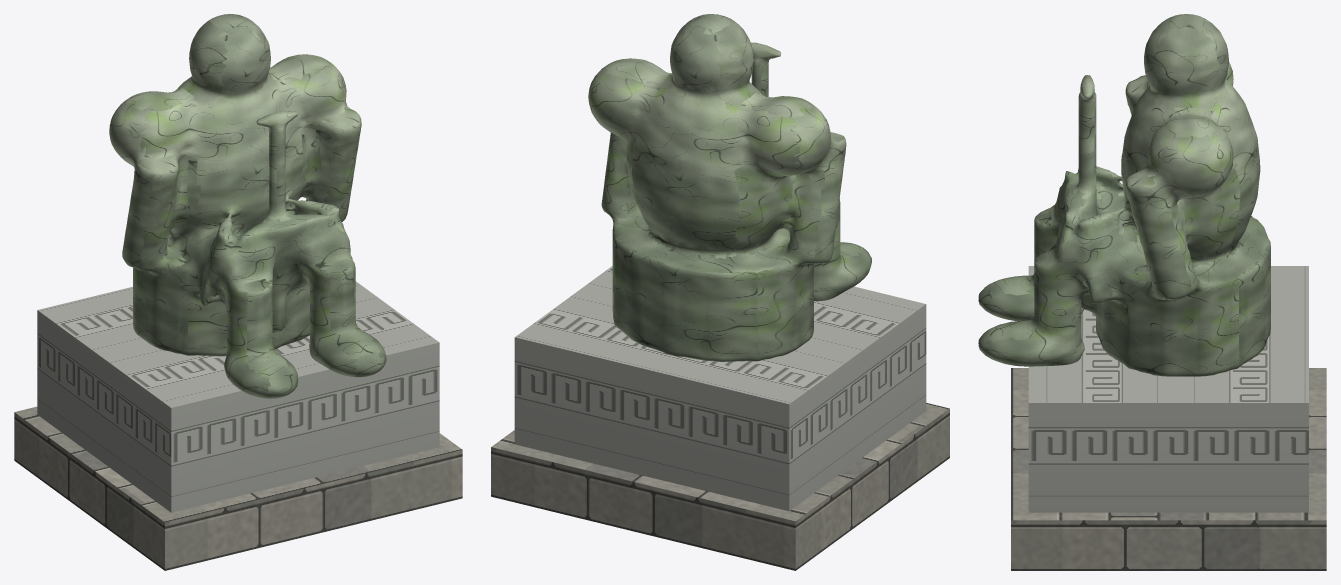
File: statue.glb
The picture shows the model from 3 angles, left to right: view 1: azimuth 30°, elevation 25°; view 2: azimuth 150°, elevation 25°; view 3: azimuth 270°, elevation 25°; orthographic projection. The views are drawn at different scales.
Visible parts, largest first — view 1: statue; view 2: statue; view 3: statue.
Boxes of the visible parts, x1,y1,x2,y2 form: statue: (14,14,462,570); statue: (491,14,949,570); statue: (978,14,1326,570).
Size of the model in its own units: 2.44 by 3.57 by 2.36.
Materials: 3 (3 with a texture image).
